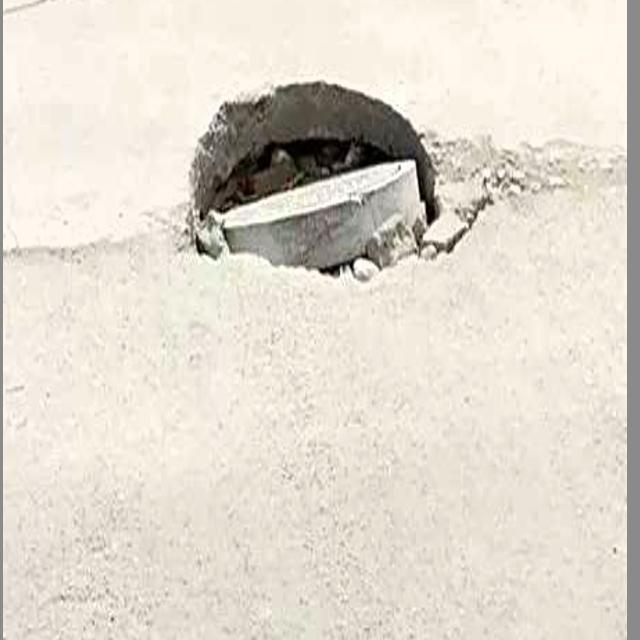circle: (160, 51, 528, 341)
